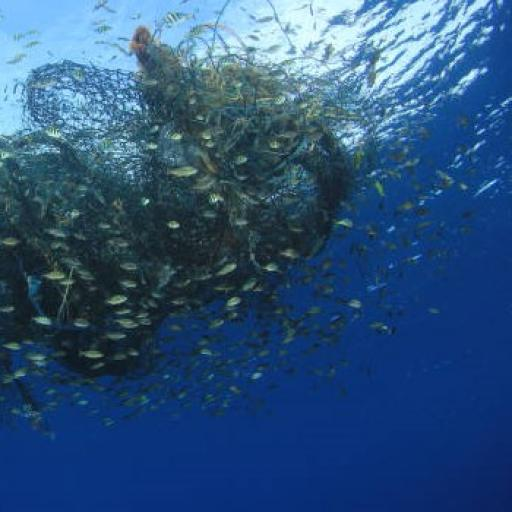net: (0, 19, 374, 406)
